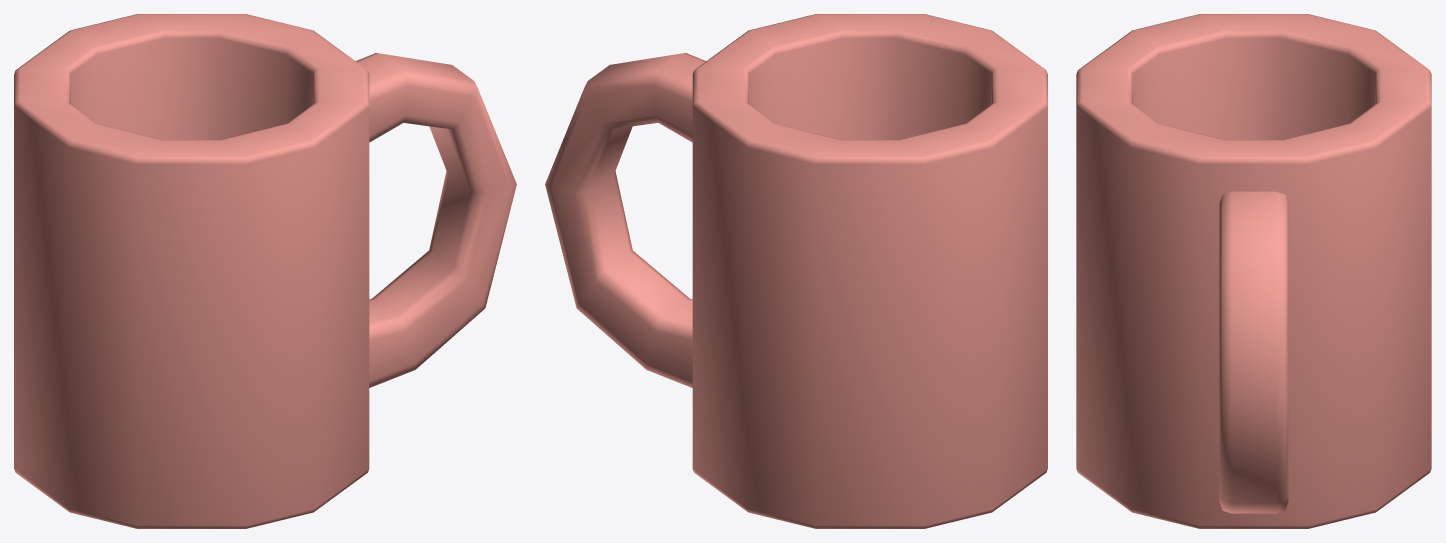
The model's file is CoffeeCup.FBX.
The picture shows the model from 3 angles, left to right: view 1: azimuth 30°, elevation 25°; view 2: azimuth 150°, elevation 25°; view 3: azimuth 270°, elevation 25°; orthographic projection.
Parts seen in each view (by area): view 1: Object001; view 2: Object001; view 3: Object001.
Part boxes in pixels (x1,y1,x2,y2): Object001: [14, 14, 516, 528]; Object001: [545, 14, 1047, 528]; Object001: [1076, 14, 1431, 528].
Bounding box in the file's own units: 20.49 × 15.77 × 13.64.
